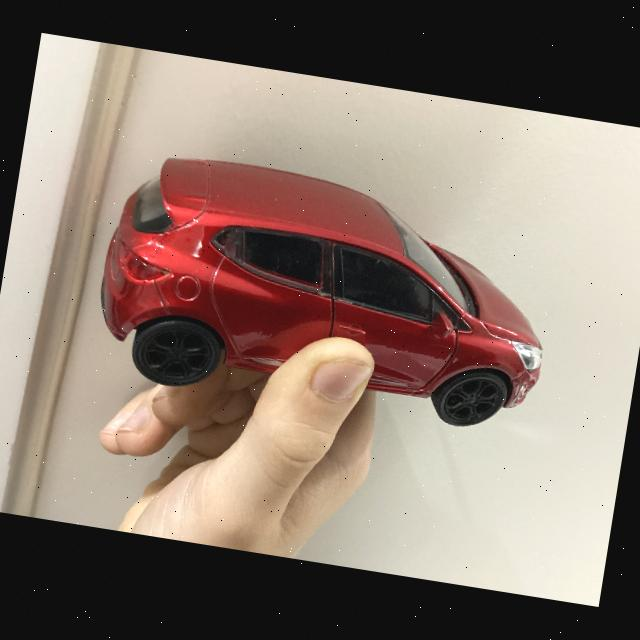Dogru_Jant: (142, 324, 212, 384), (444, 377, 497, 424)
